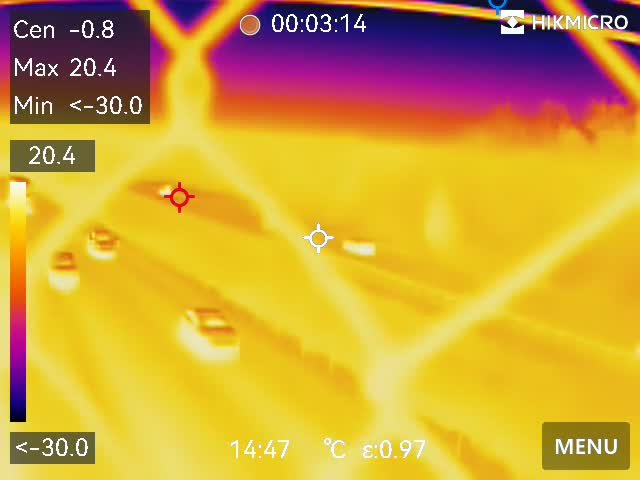smallCar: (177, 305, 239, 351)
vehicle: (45, 246, 83, 294), (86, 226, 124, 257)
